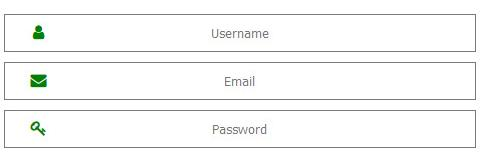field: (2, 108, 477, 150), (3, 13, 478, 54), (3, 61, 477, 101)
